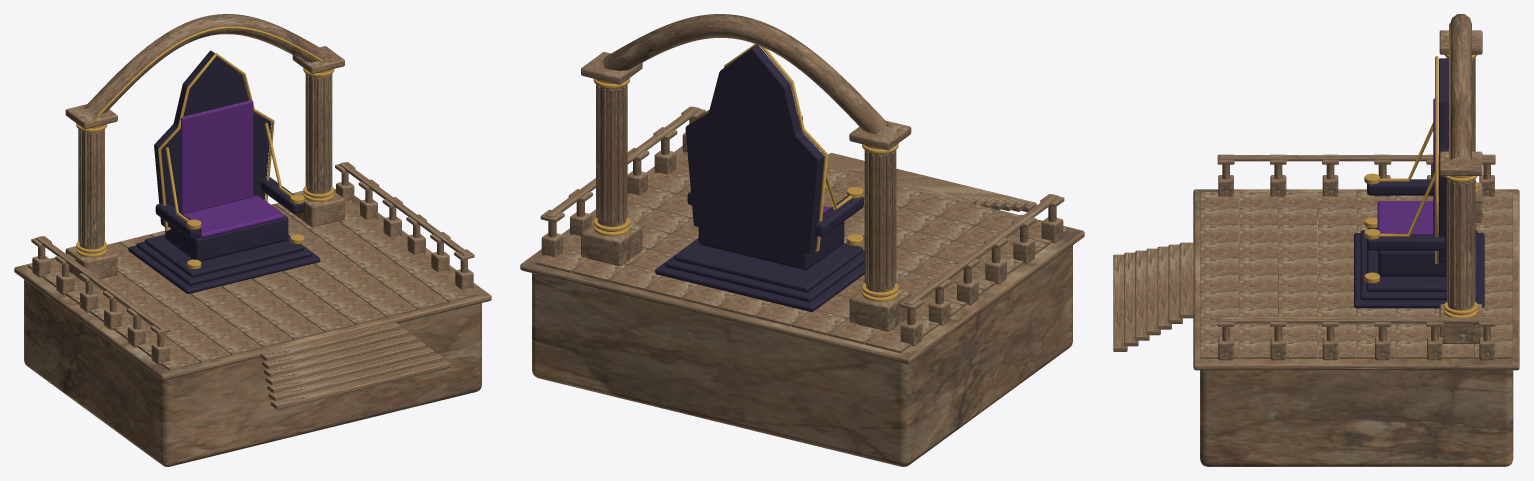
The model's file is royal-court.glb.
The picture shows the model from 3 angles, left to right: view 1: azimuth 30°, elevation 25°; view 2: azimuth 150°, elevation 25°; view 3: azimuth 270°, elevation 25°; orthographic projection. The views are drawn at different scales.
Visible parts, largest first — view 1: Ainz_Royal_Overlook; view 2: Ainz_Royal_Overlook; view 3: Ainz_Royal_Overlook.
Boxes of the visible parts, box(x1,y1,x2,y2) form: Ainz_Royal_Overlook: box(14, 14, 491, 466); Ainz_Royal_Overlook: box(520, 14, 1084, 466); Ainz_Royal_Overlook: box(1113, 14, 1519, 466).
Size of the model in its own units: 32 by 30.21 by 31.15.
4 materials, 1 textured.
